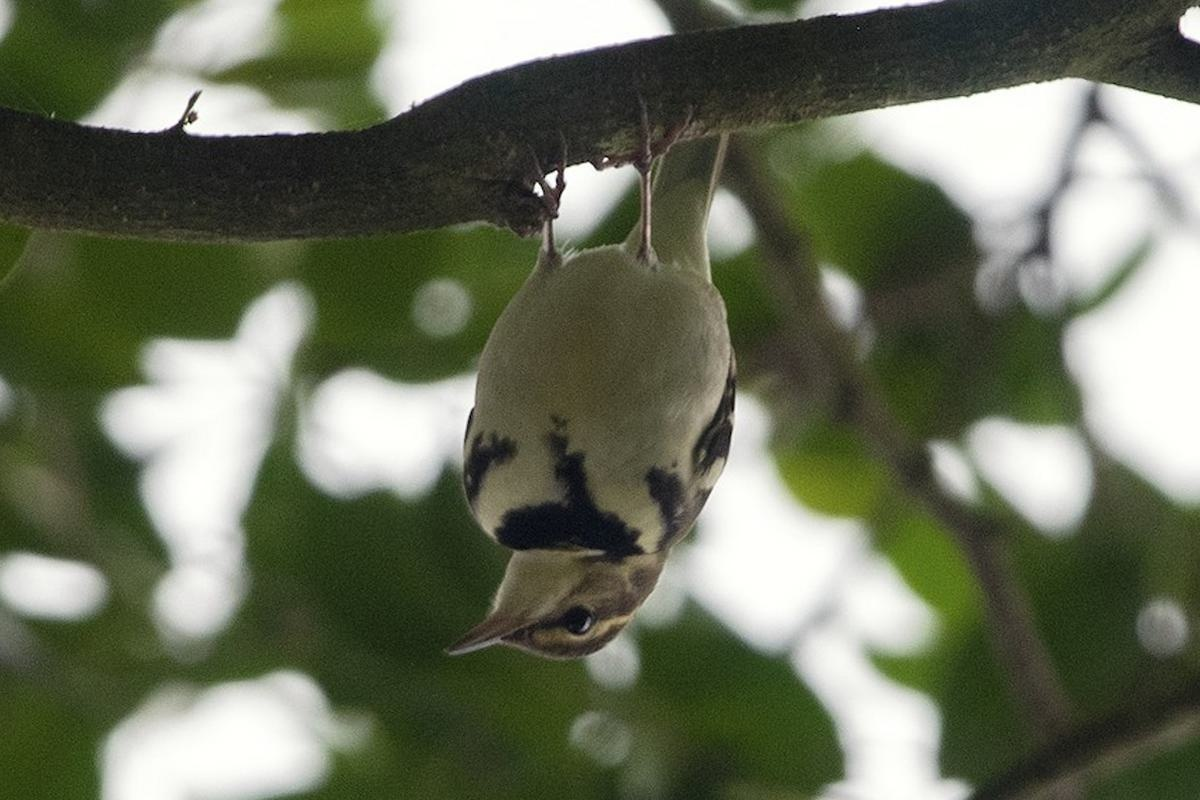wagtail: (428, 148, 775, 674)
